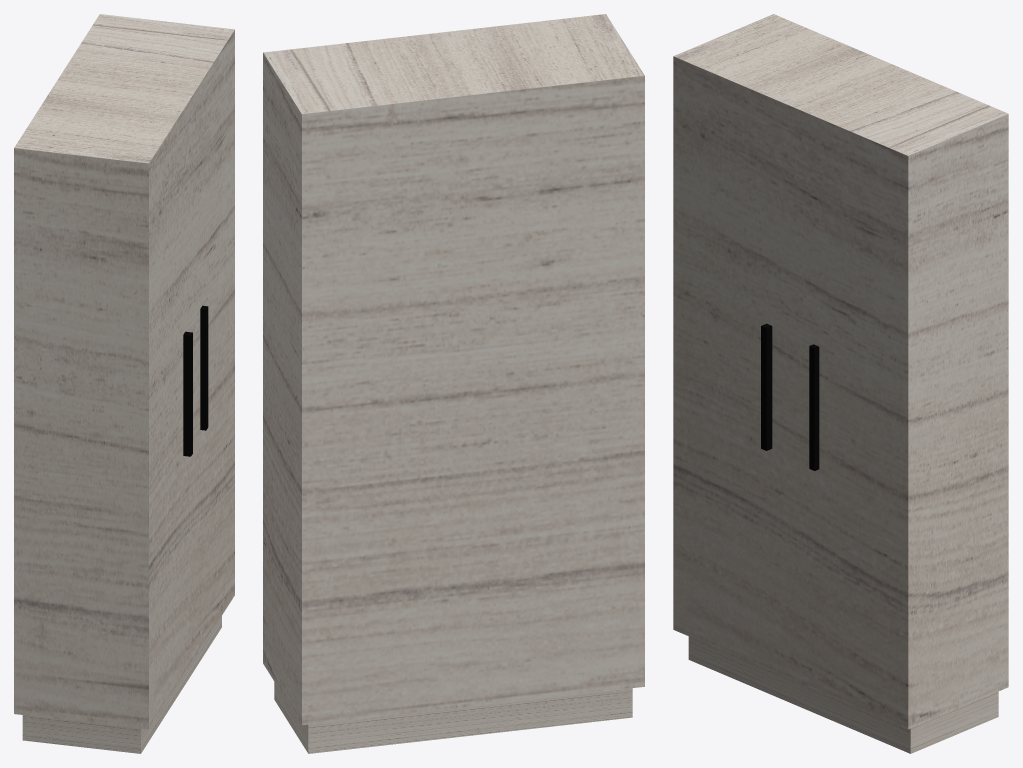
Rendered from qwe.glb.
3 renders of one model, left to right at view 1: azimuth 30°, elevation 25°; view 2: azimuth 150°, elevation 25°; view 3: azimuth 270°, elevation 25°, orthographic. The views are drawn at different scales.
Visible parts, largest first — view 1: Куб.001; view 2: Куб.001; view 3: Куб.001.
Boxes of the visible parts, x1,y1,x2,y2 form: Куб.001: [14, 14, 234, 753]; Куб.001: [263, 14, 644, 753]; Куб.001: [673, 14, 1008, 753].
Size of the model in its own units: 1.01 by 2 by 1.01.
Materials: 3 (1 with a texture image).
